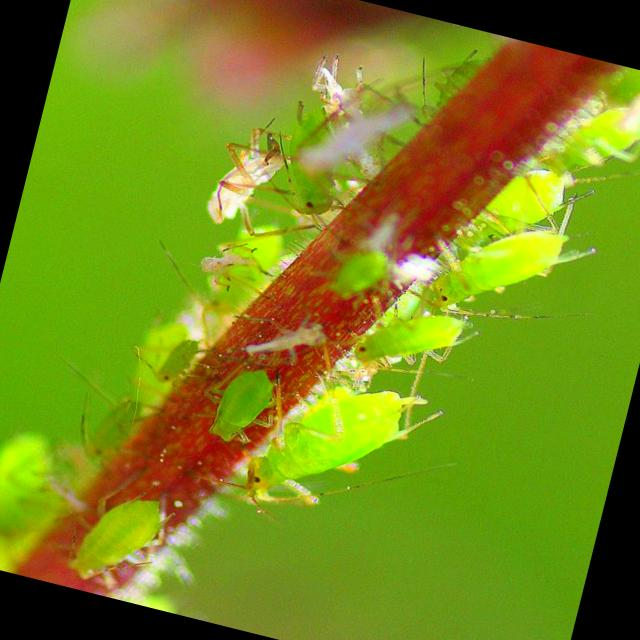Aphids: (238, 353, 418, 545), (401, 185, 583, 348), (322, 279, 481, 404), (60, 462, 186, 604), (170, 333, 298, 471), (59, 380, 154, 480), (123, 316, 207, 402)
